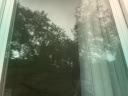window: (11, 2, 120, 94)
